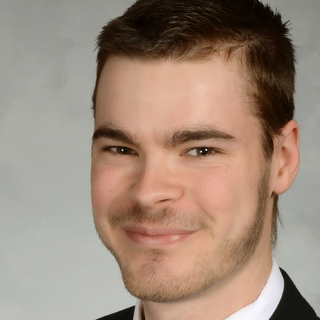eye: (175, 143, 230, 167), (94, 141, 146, 162)
